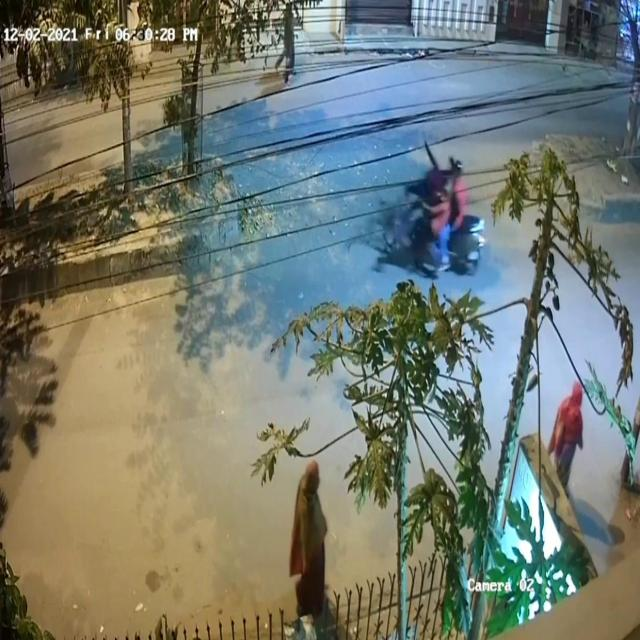accident: (384, 141, 488, 279)
